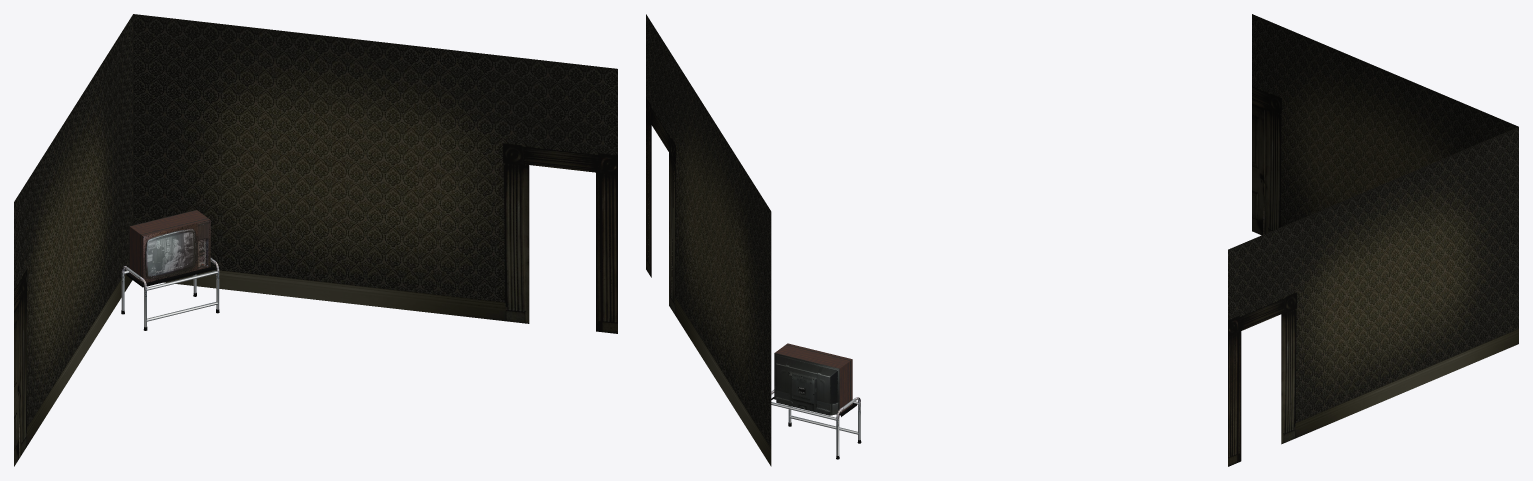
3 views of the same model, side by side, from view 1: azimuth 30°, elevation 25°; view 2: azimuth 150°, elevation 25°; view 3: azimuth 270°, elevation 25° (orthographic). The views are drawn at different scales.
Parts seen in each view (by area): view 1: SketchUp (×2), group_13 (×2), Component_1; view 2: SketchUp, group_13 (×3); view 3: SketchUp (×2).
Part boxes in pixels (box(x1,y1,x2,y2)): SketchUp (×2): box(14, 14, 617, 466); group_13 (×2): box(129, 210, 210, 282); Component_1: box(145, 229, 195, 278); SketchUp: box(646, 14, 771, 466); group_13 (×3): box(774, 343, 852, 415); SketchUp (×2): box(1228, 14, 1518, 466).
Bounding box in the file's own units: 2425 × 1265 × 1057.
Materials: 11 (8 with a texture image).
